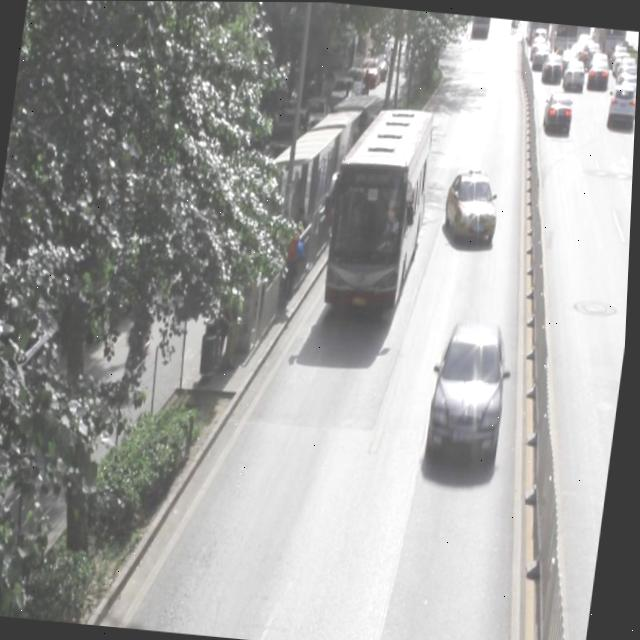car: (428, 314, 513, 463), (440, 166, 501, 247)
van: (322, 102, 436, 310)
